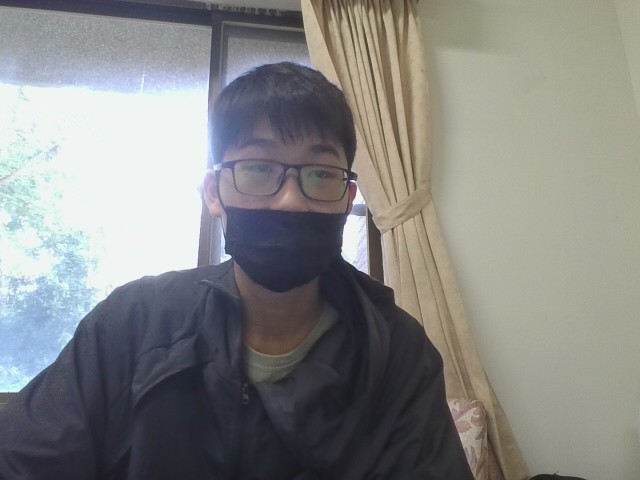No_Helmet: (199, 54, 362, 295), (203, 57, 360, 220)
person: (0, 45, 525, 479)
